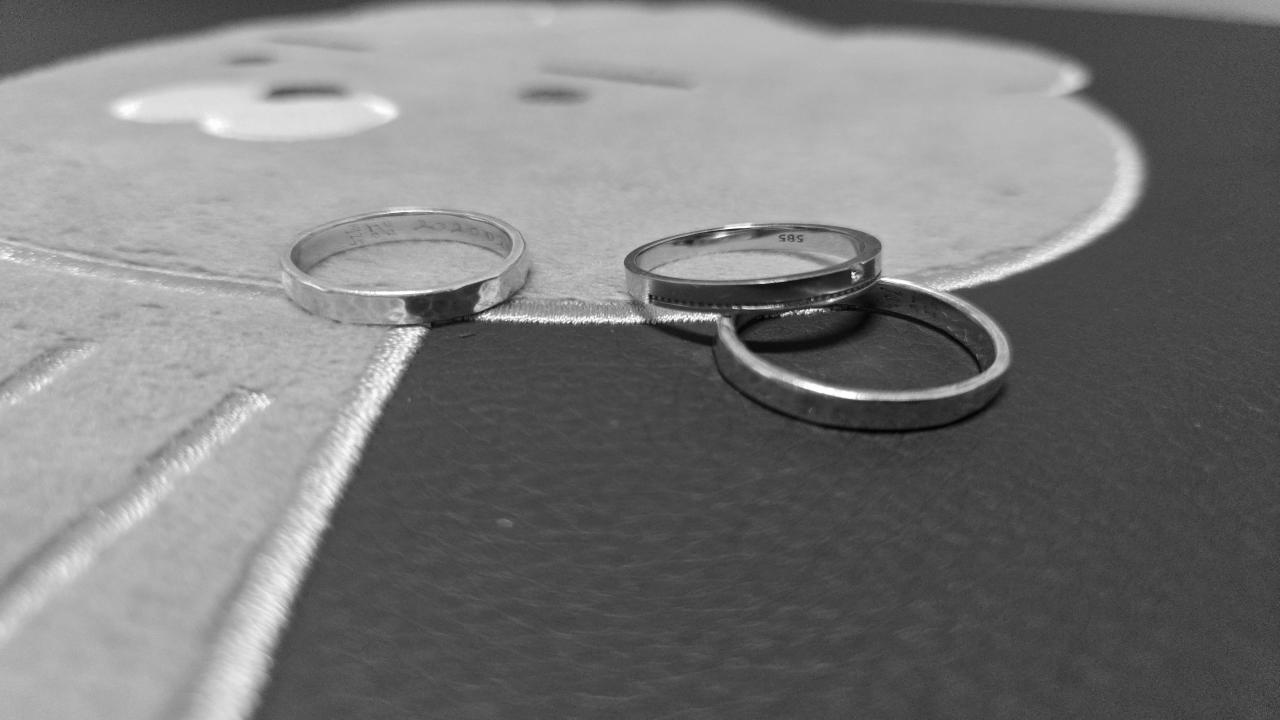ring: (710, 280, 1018, 430), (277, 206, 534, 327), (626, 222, 886, 317)
